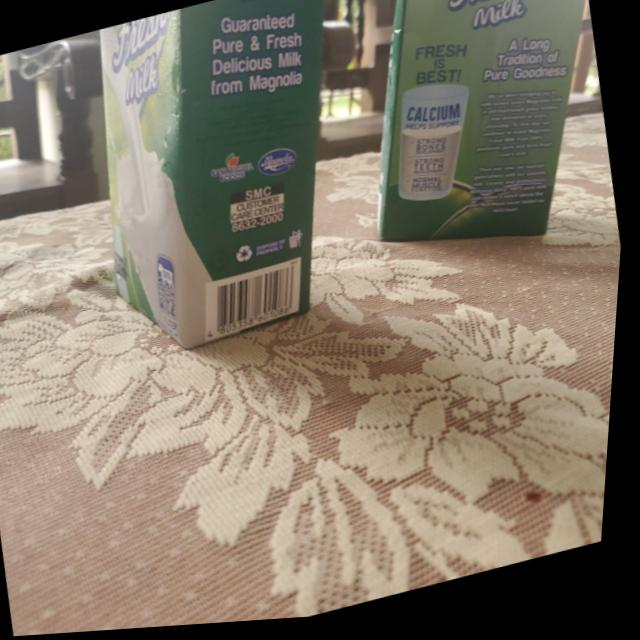milk: (62, 0, 389, 376), (329, 0, 633, 283)
